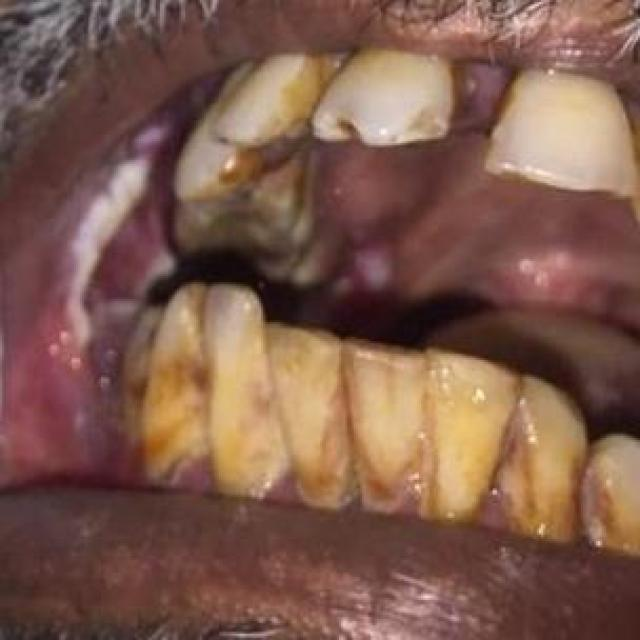leukoplakia-detection: (3, 108, 177, 488)
processing_area: (2, 67, 223, 496), (216, 454, 434, 524), (461, 466, 523, 536)
